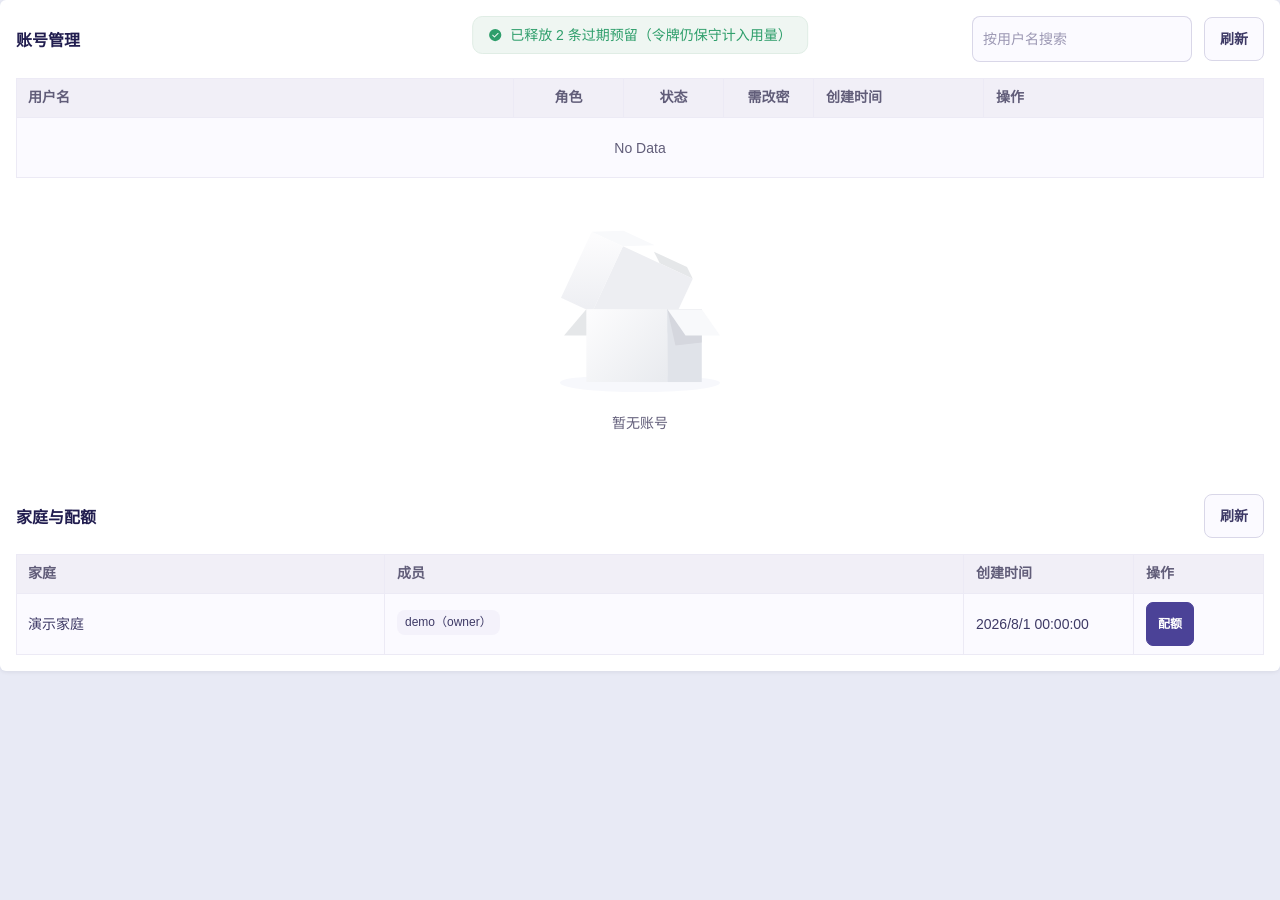
Admin Users 家庭配额面板 › opens household quota view with usage, trend and incident history
Click the button with test id "open-quota".
click(1170, 624)  # box [1146,602,1194,646]
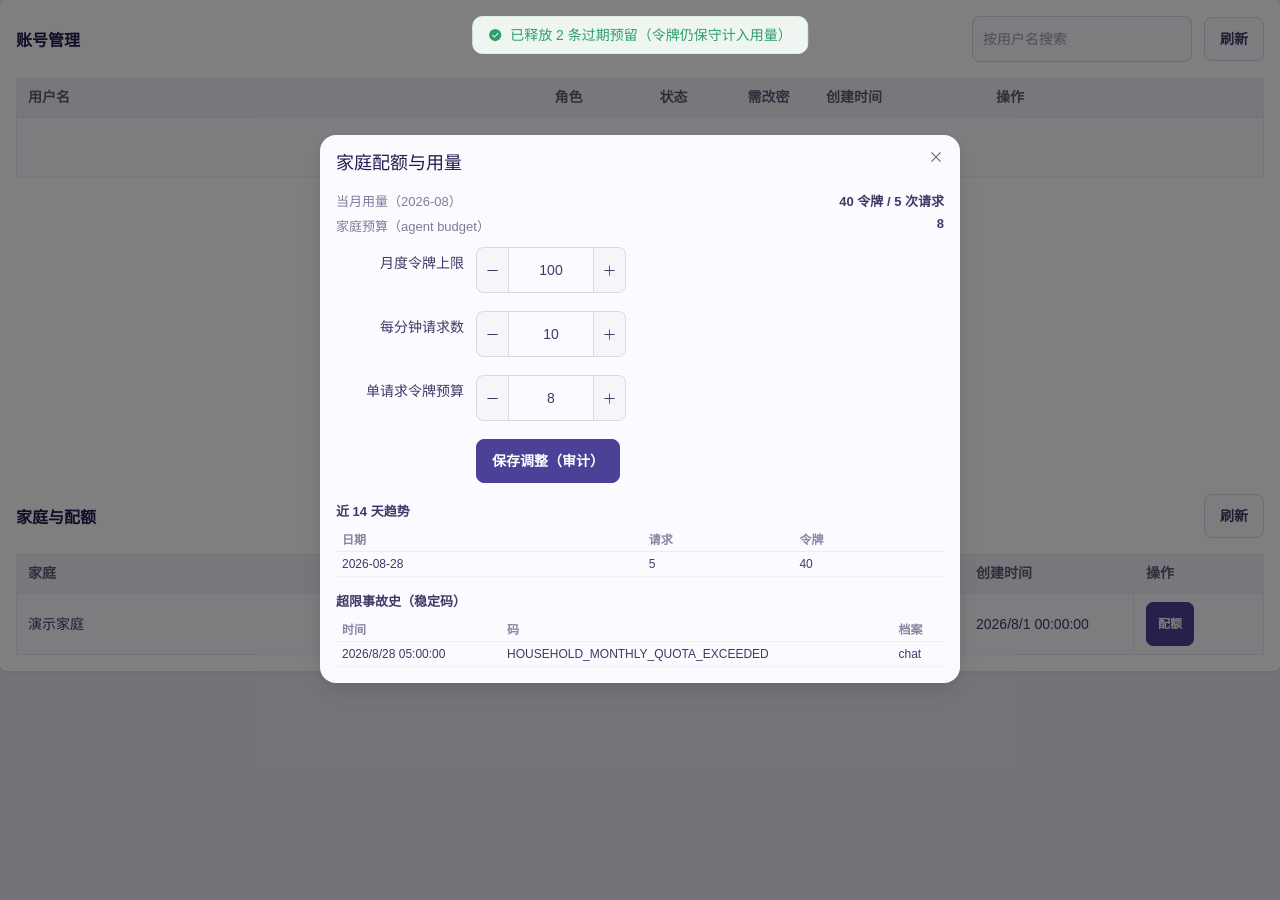
Expected: the text "40 令牌 / 5 次请求" is shown, [839,191,944,210]
Expected: the text "HOUSEHOLD_MONTHLY_QUOTA_EXCEEDED" is shown, [501,642,892,666]
